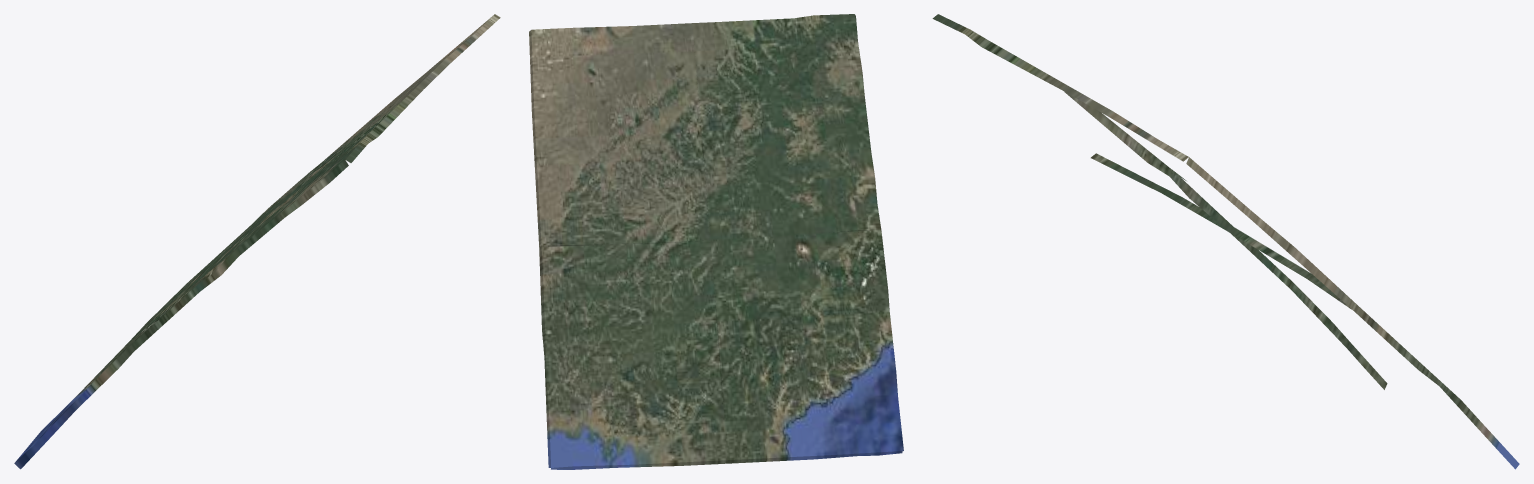
The picture shows the model from 3 angles, left to right: view 1: azimuth 30°, elevation 25°; view 2: azimuth 150°, elevation 25°; view 3: azimuth 270°, elevation 25°; orthographic projection. The views are drawn at different scales.
Size of the model in its own units: 627340 by 475208 by 620371.
Materials: 1 (1 with a texture image).
